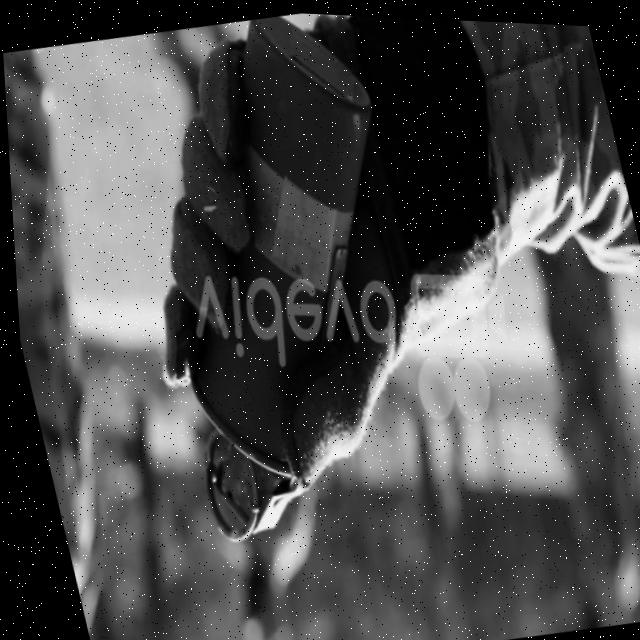grenade: (72, 3, 480, 585)
